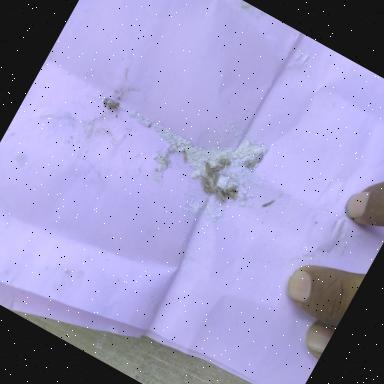pbw: (198, 160, 218, 180), (100, 96, 121, 114), (211, 188, 229, 206), (248, 151, 264, 169), (222, 186, 239, 202), (222, 182, 238, 198), (208, 160, 225, 175), (208, 170, 222, 187), (198, 176, 213, 189), (202, 184, 217, 197), (217, 155, 232, 168), (178, 149, 191, 163)
